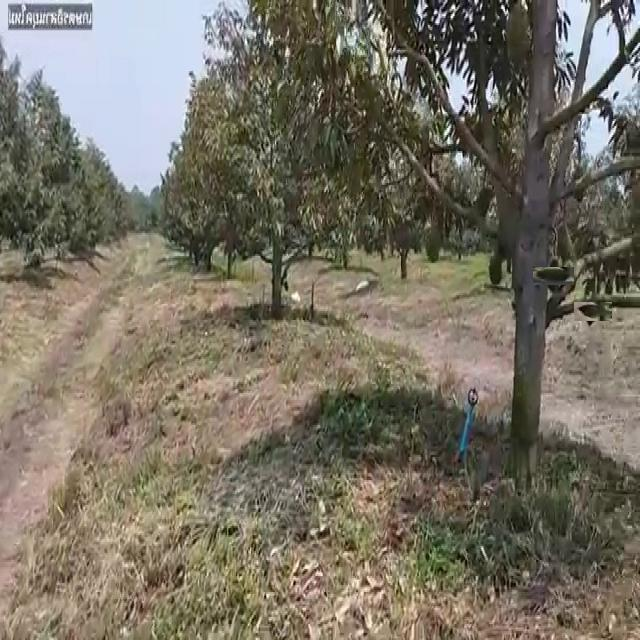durian: (422, 221, 445, 265), (538, 261, 568, 291), (578, 296, 608, 326), (487, 250, 504, 290)
